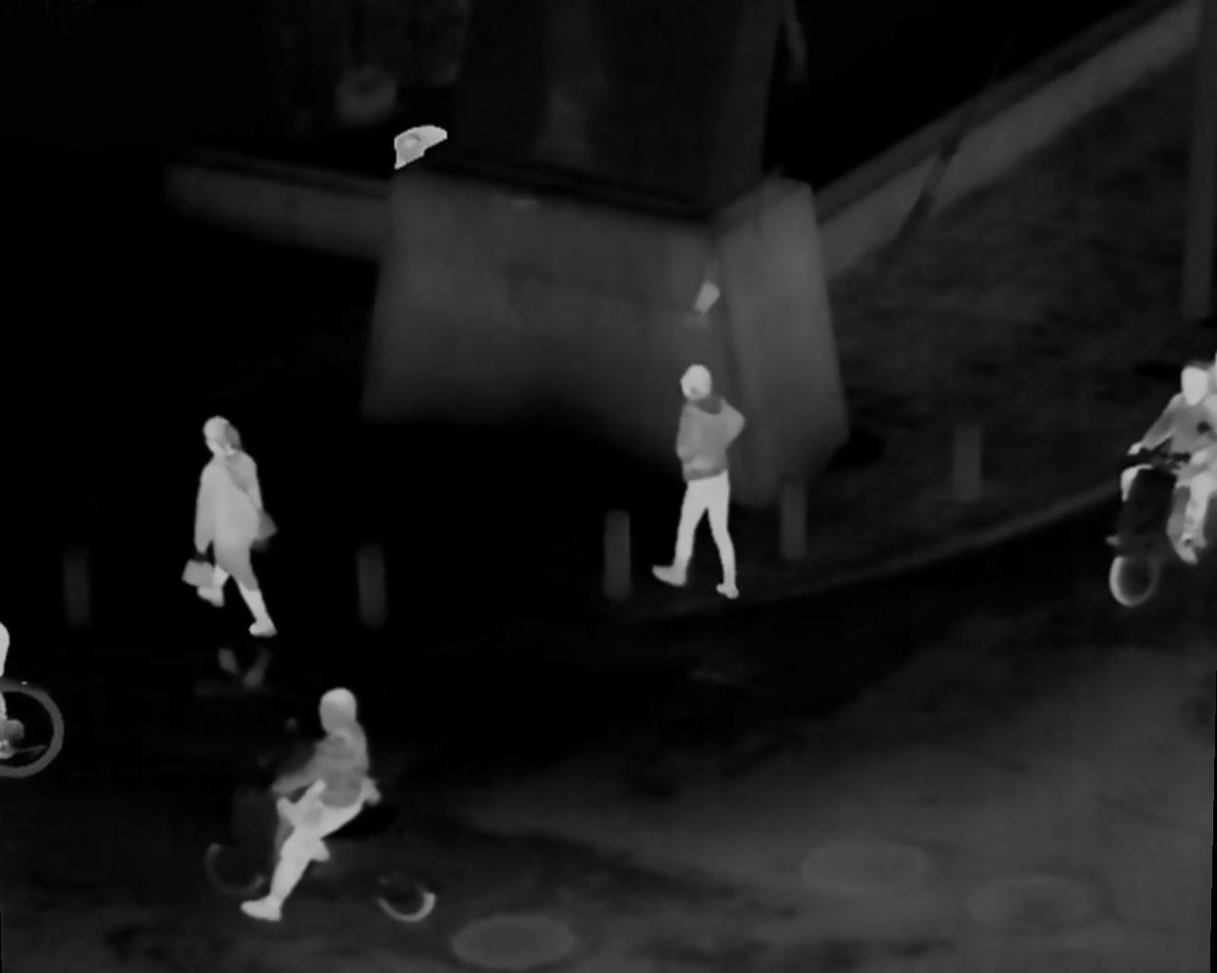person: (242, 693, 378, 922), (655, 372, 754, 613), (184, 415, 283, 626), (1135, 362, 1216, 565)
